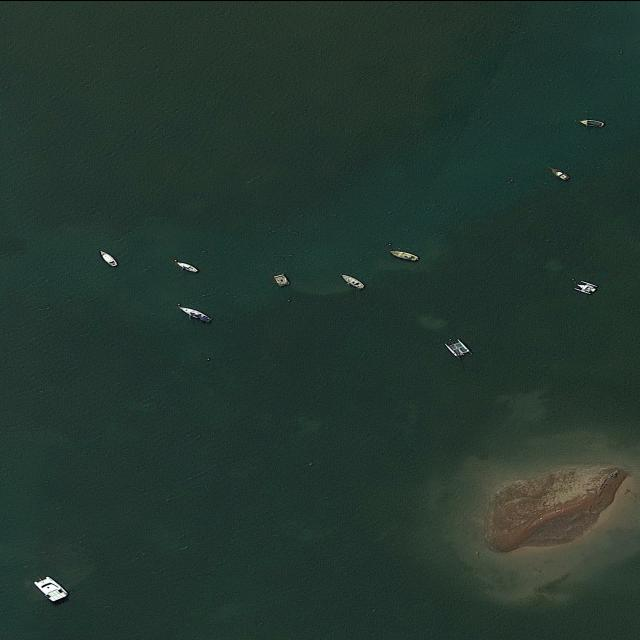ship: (31, 574, 71, 602), (442, 336, 477, 359), (176, 304, 212, 322), (340, 273, 366, 290), (573, 278, 599, 294), (388, 248, 421, 260), (173, 259, 201, 273), (547, 164, 571, 180), (271, 272, 293, 287), (98, 250, 118, 266), (574, 118, 606, 126)
